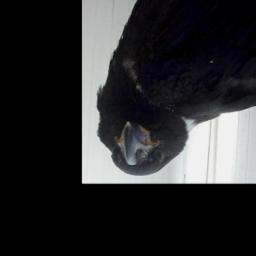Crow: (94, 0, 256, 177)
